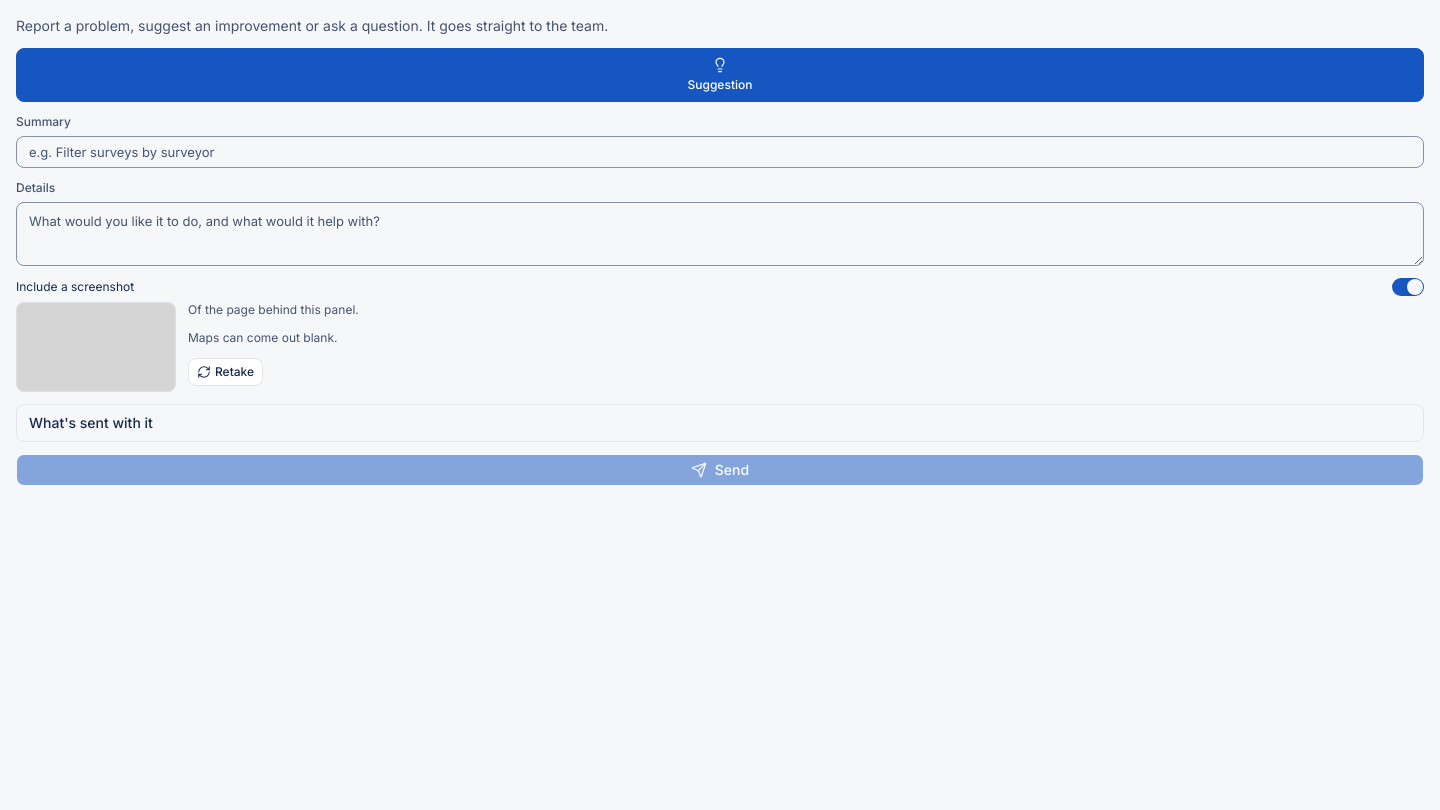
it: Feedback types › starts on the first type that is on
The image size is (1440, 810).
Expected: the number of radio buttons is 1, [16,48,1424,102]
Click the button "What's sent with it" at (91, 423), box [17,405,1423,441]
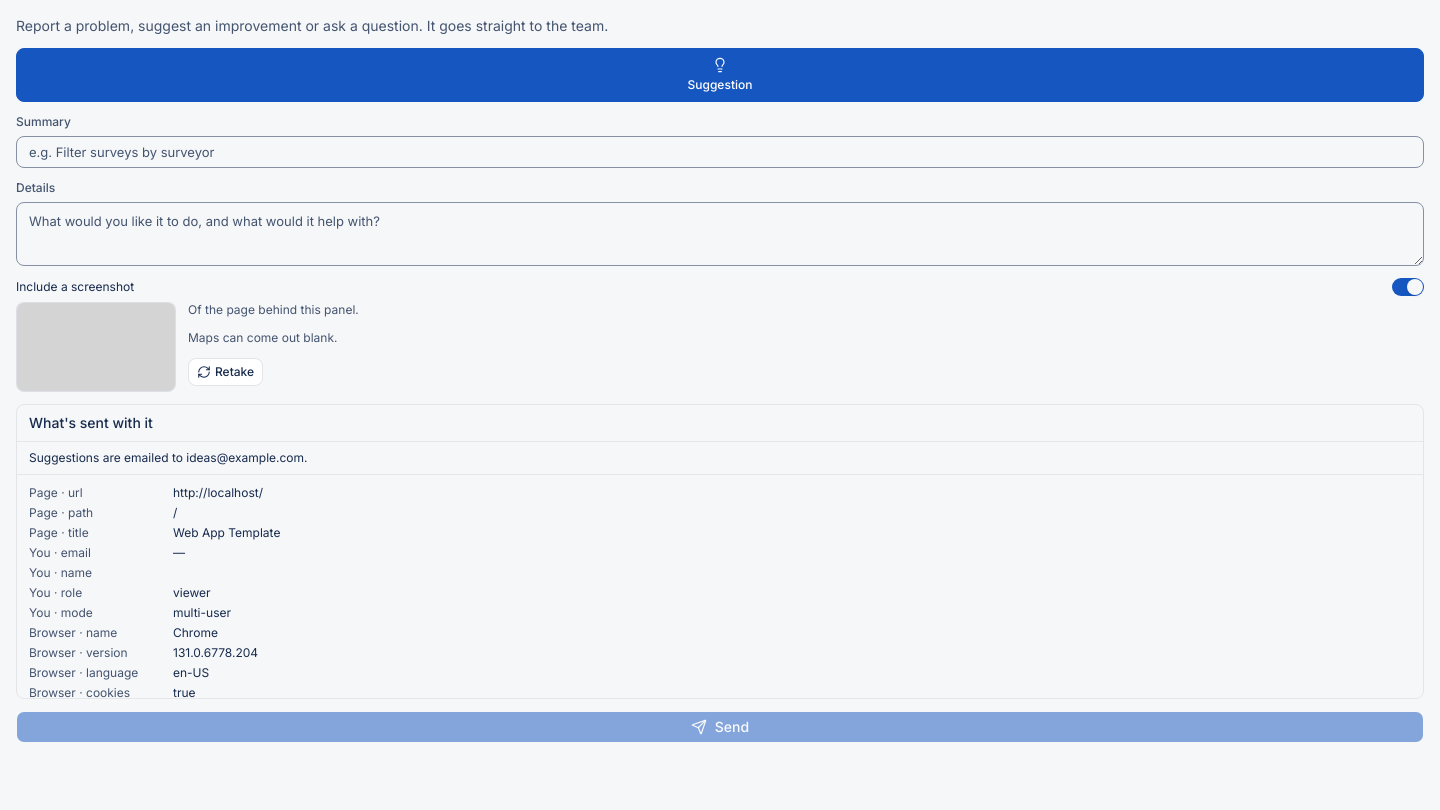
Expected: the text "Suggestions are emailed to ideas@example.com." is shown, [17,441,1423,474]
